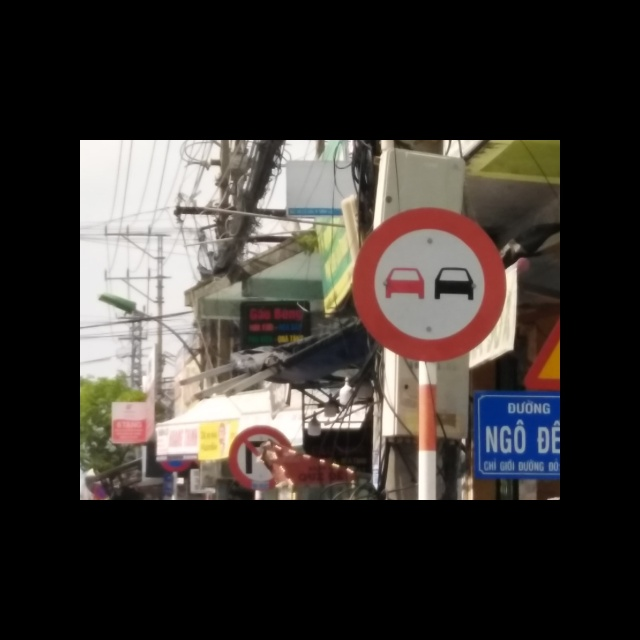Cấm vượt: (352, 207, 508, 360)
